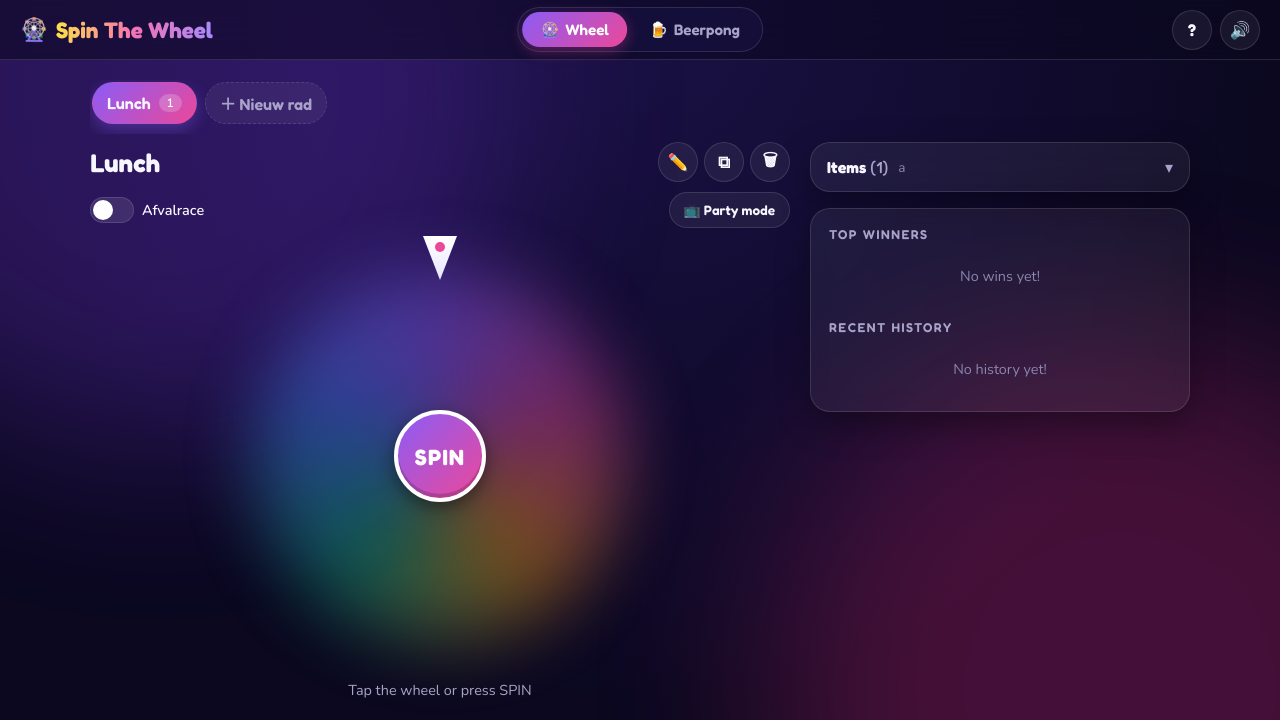
Test: wheel chips: create a wheel, which opens the item editor
Check: the heading "Lunch" is shown, box [90,146,160,178]
Click the button "＋ Nieuw rad" at (266, 103), box [205,82,327,124]
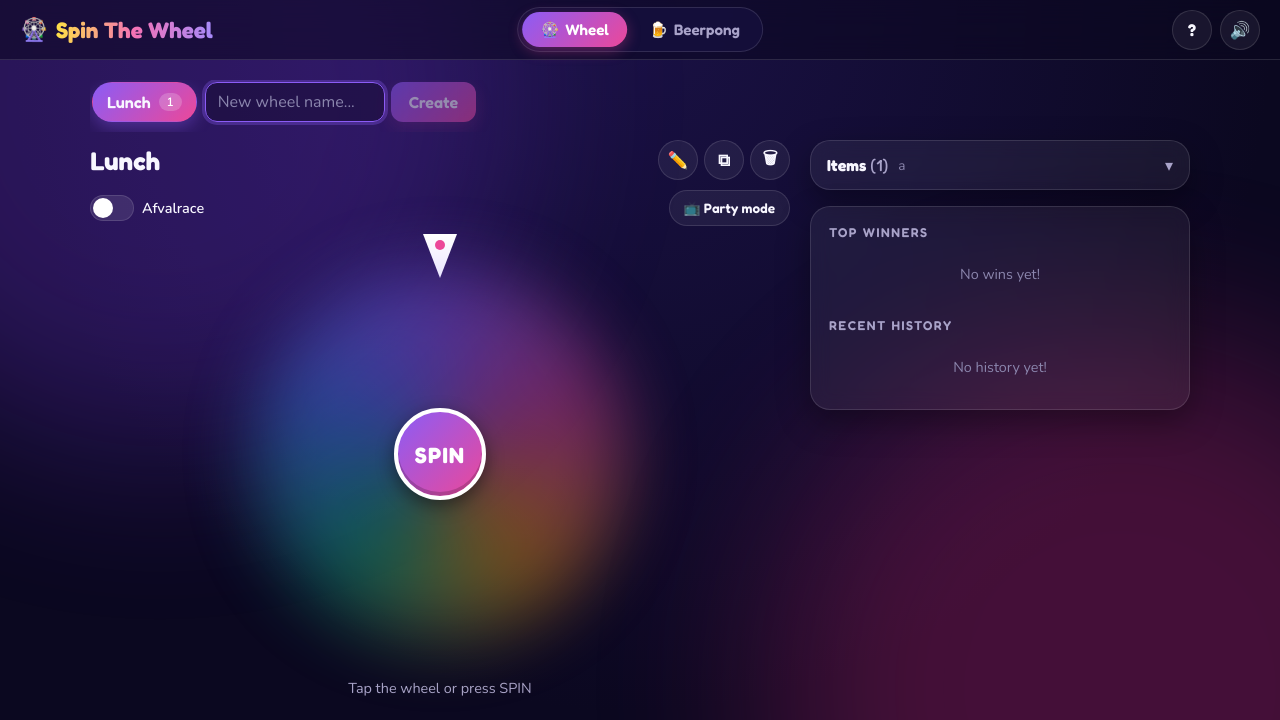
Type "Drinks" into the field with placeholder "New wheel name..." at (295, 102), box [205,82,385,122]
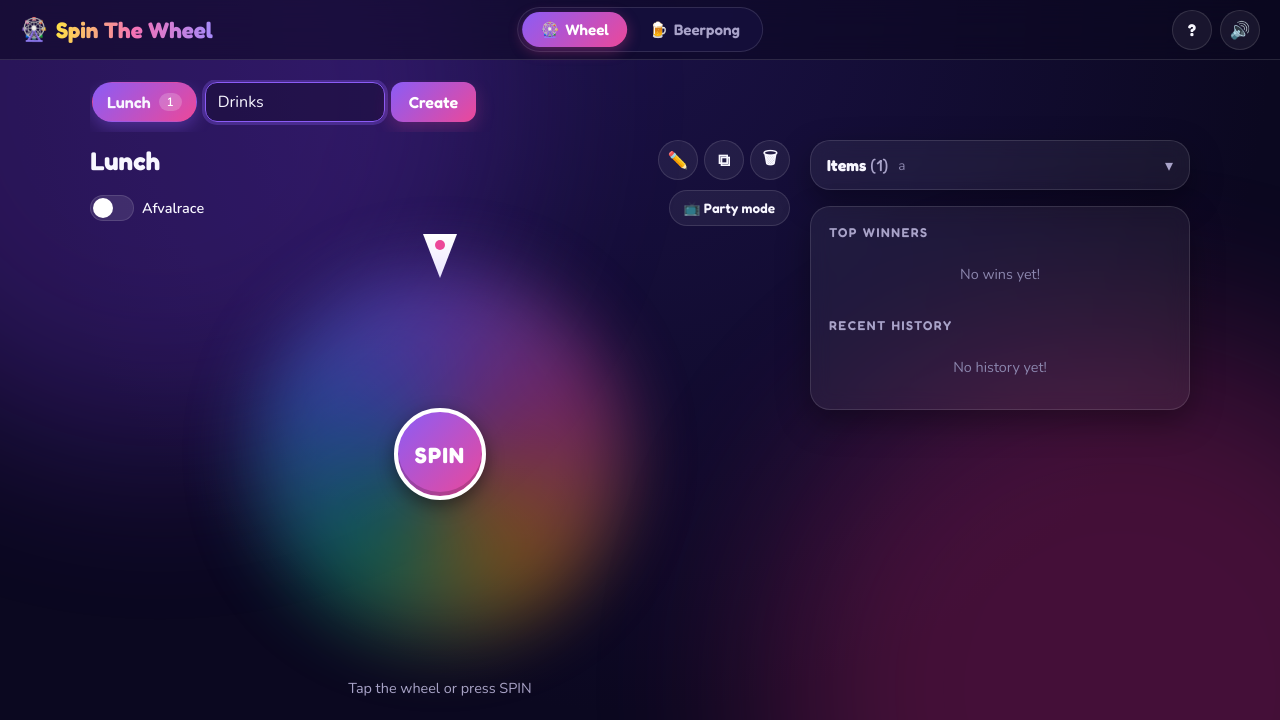
Click the button "Create" at (434, 102), box [391,82,476,122]
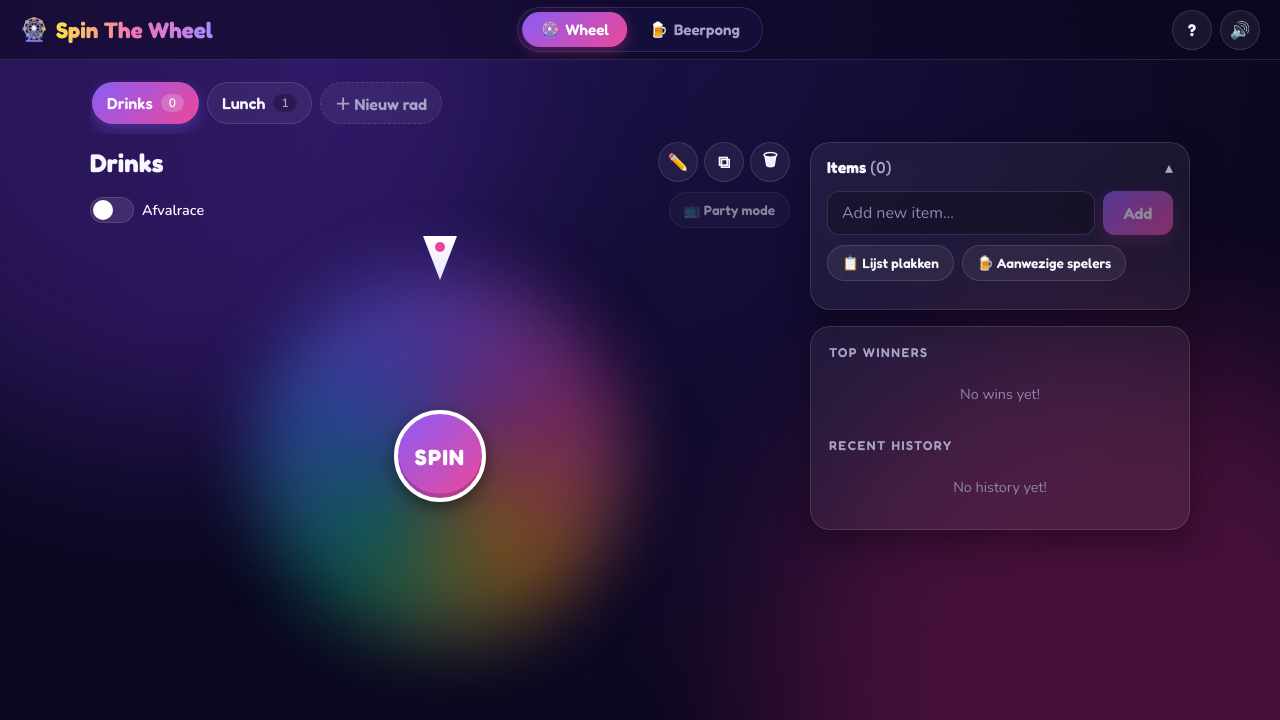
Check: the heading "Drinks" is shown, box [90,146,164,178]
Check: the field with placeholder "Add new item..." is shown, box [827,191,1095,235]
